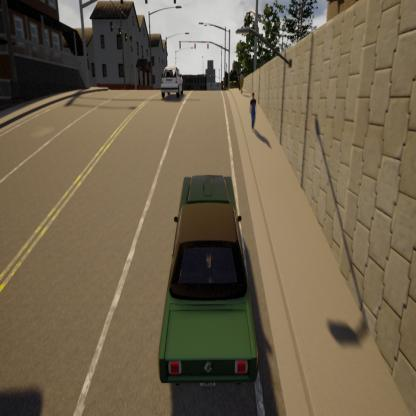Cars: (152, 145, 262, 410), (146, 52, 188, 110)
Pedestrian: (242, 73, 263, 141)
